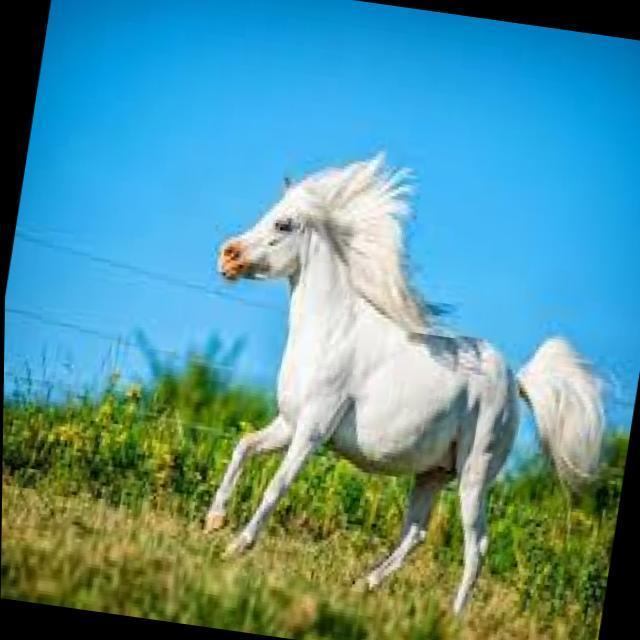Cheetah: (195, 98, 575, 471)
